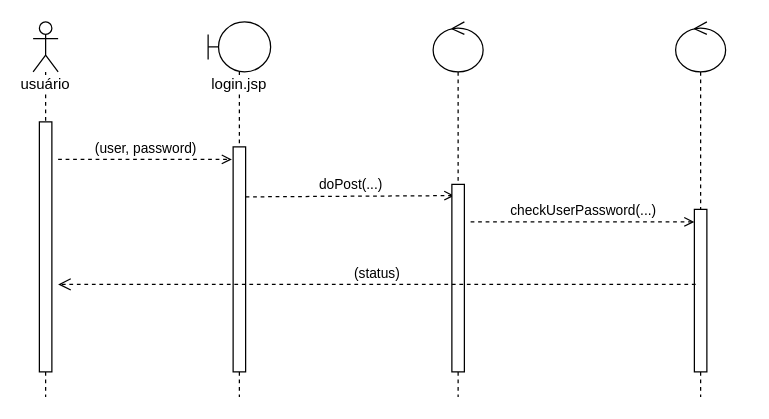
Image size: 769x419. Some labels were removed from this diagram. Each missing label, with the centre of its shape:
loginServlet.java: the point at 457,209
userDAO.java: the point at 700,209
